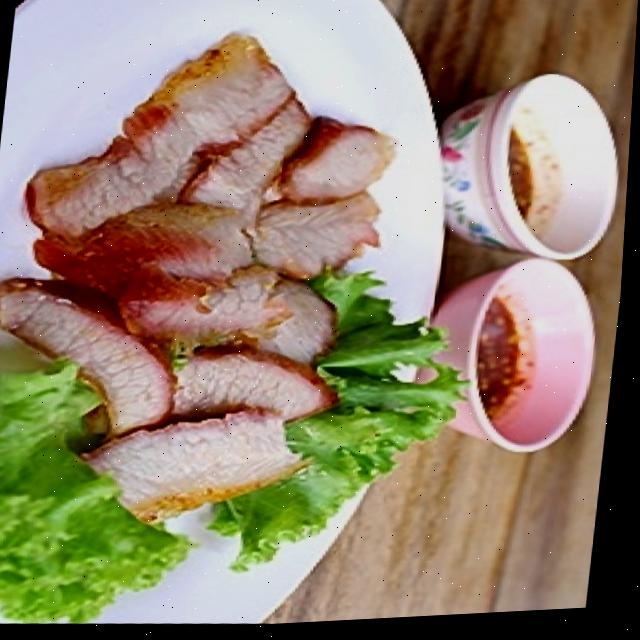猪肉菜式: (0, 0, 457, 539)
